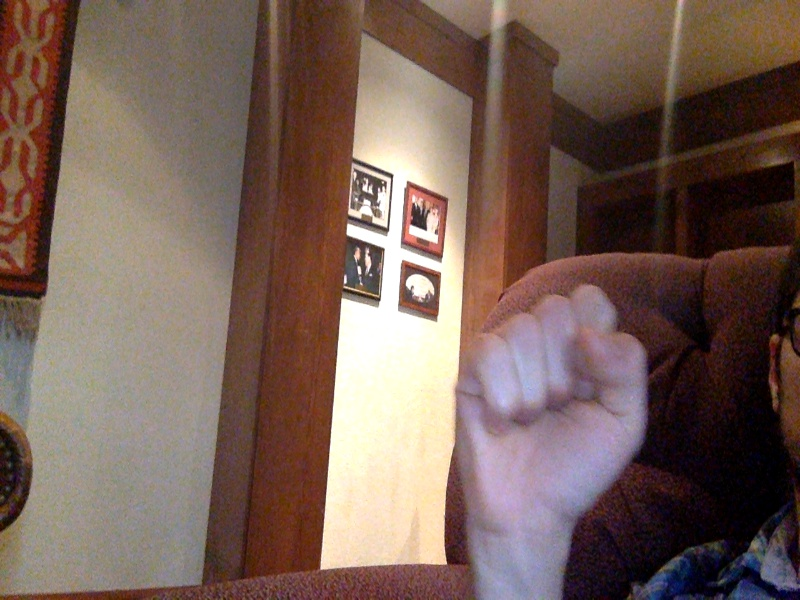0-hand: (454, 284, 649, 549)
